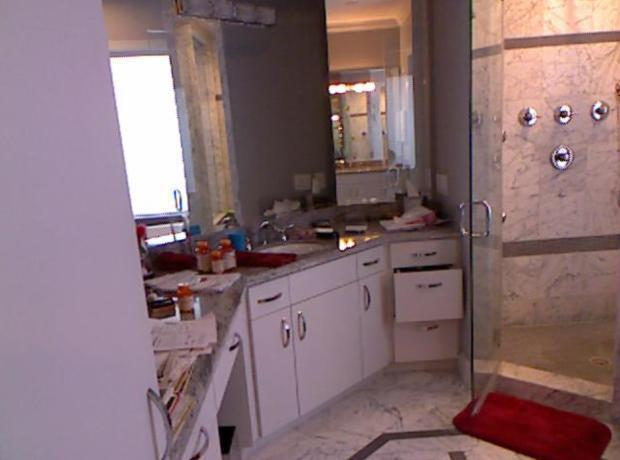Ducha: (468, 2, 615, 426)
Lavamanos: (241, 218, 335, 271)
